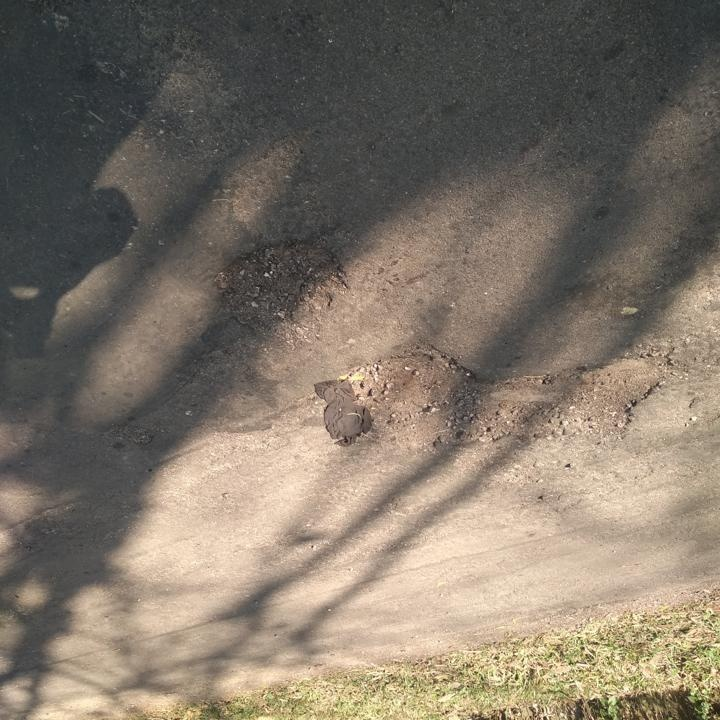pothole: (334, 338, 680, 455), (212, 239, 354, 334)
